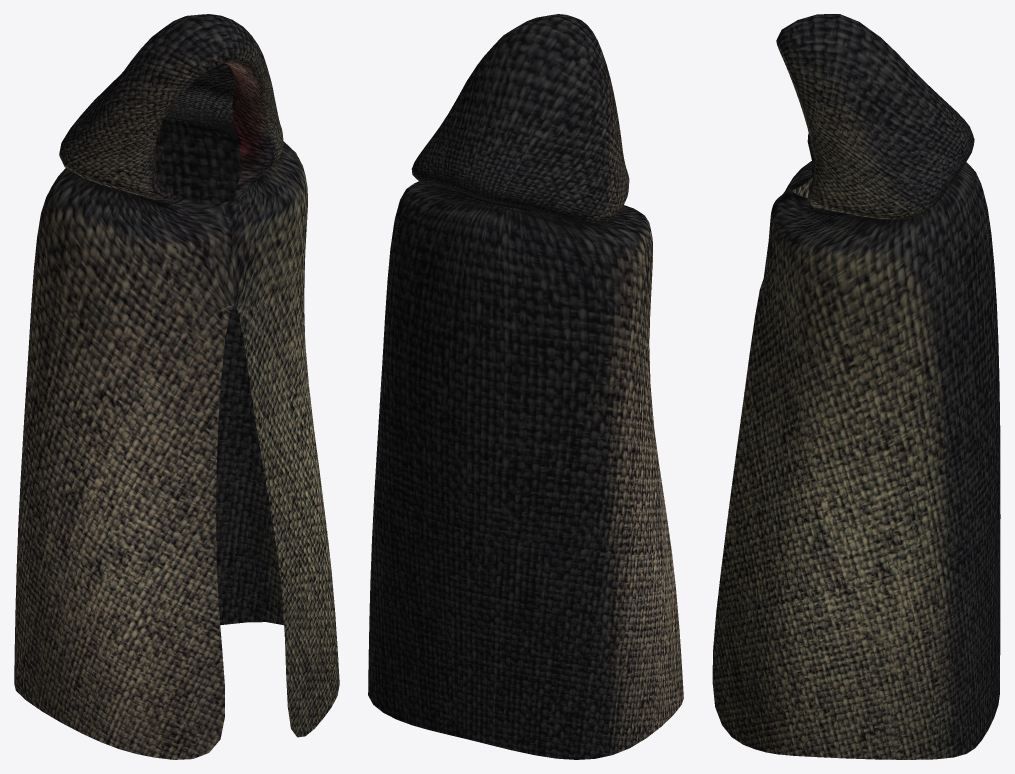
The model's file is phantom_bakeb.fbx.
3 renders of one model, left to right at view 1: azimuth 30°, elevation 25°; view 2: azimuth 150°, elevation 25°; view 3: azimuth 270°, elevation 25°, orthographic. The views are drawn at different scales.
Parts seen in each view (by area): view 1: phantom; view 2: phantom; view 3: phantom.
Boxes of the visible parts, x1,y1,x2,y2 form: phantom: [14, 14, 339, 759]; phantom: [368, 14, 683, 759]; phantom: [712, 14, 1000, 759].
Bounding box in the file's own units: 61.88 × 149 × 56.32.
